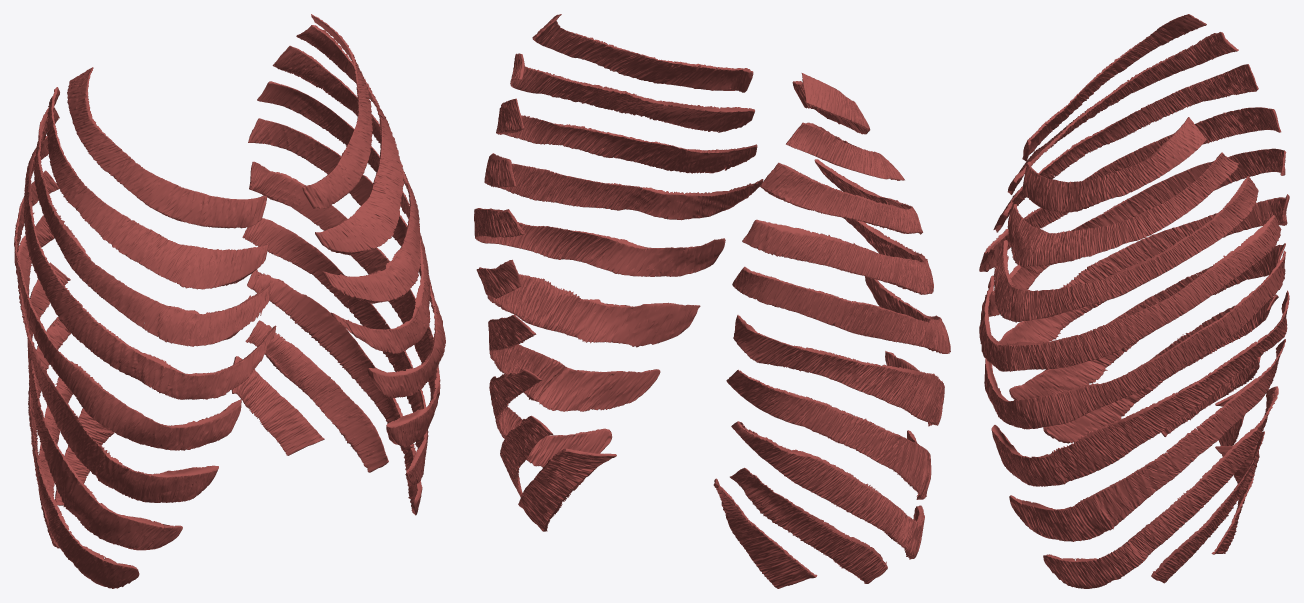
File: FMA9757.glb
3 views of the same model, side by side, from view 1: azimuth 30°, elevation 25°; view 2: azimuth 150°, elevation 25°; view 3: azimuth 270°, elevation 25° (orthographic). The views are drawn at different scales.
Parts seen in each view (by area): view 1: FMA9757; view 2: FMA9757; view 3: FMA9757.
Boxes of the visible parts, x1,y1,x2,y2 form: FMA9757: [14, 14, 445, 588]; FMA9757: [474, 14, 950, 588]; FMA9757: [979, 14, 1289, 588].
Bounding box in the file's own units: 0.2691 × 0.3196 × 0.1998.
